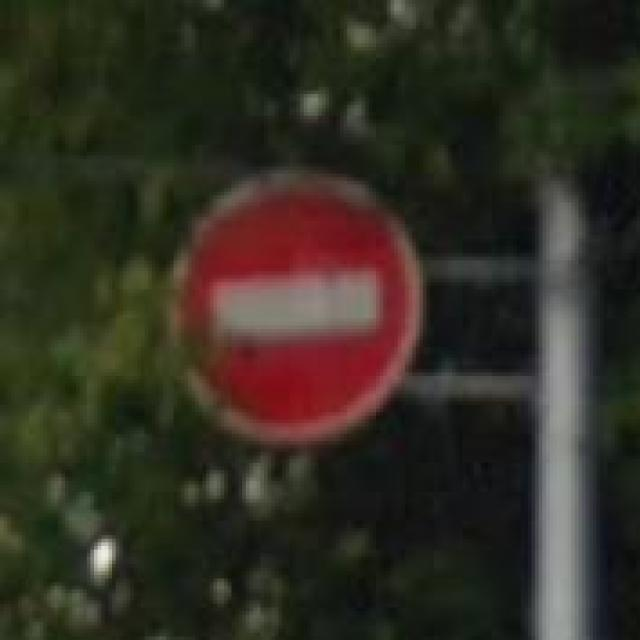traffic_sign: (166, 162, 427, 444)
